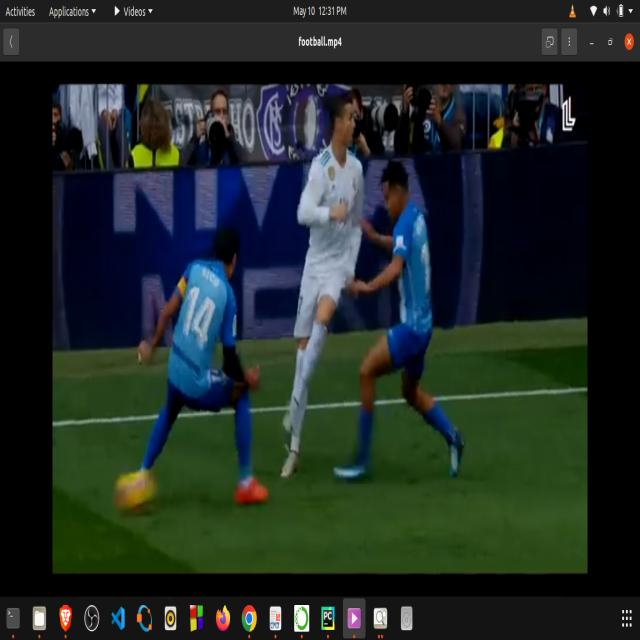football-players: (339, 149, 473, 510), (115, 220, 276, 516), (285, 79, 365, 486)
